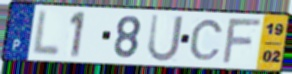1: (68, 10, 88, 59)
8: (113, 15, 142, 59)
C: (187, 18, 225, 62)
F: (219, 17, 264, 66)
L: (30, 9, 62, 59)
U: (146, 12, 185, 63)
